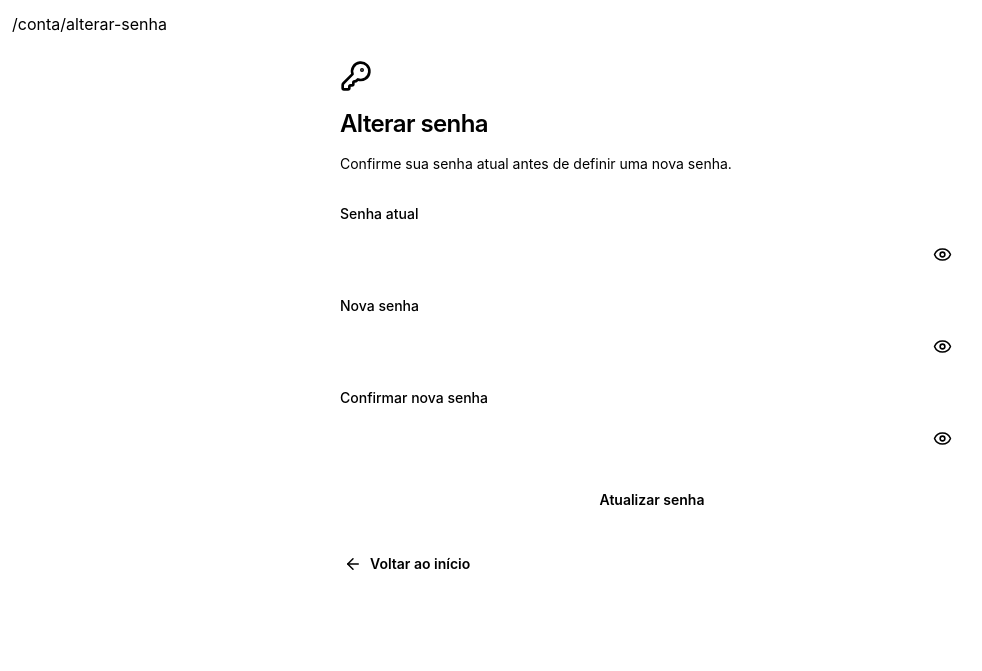
Scenario: UpdatePasswordPage › valida campos vazios e foca a senha atual
Click the button "Atualizar senha" at (652, 500), box [340,480,964,520]
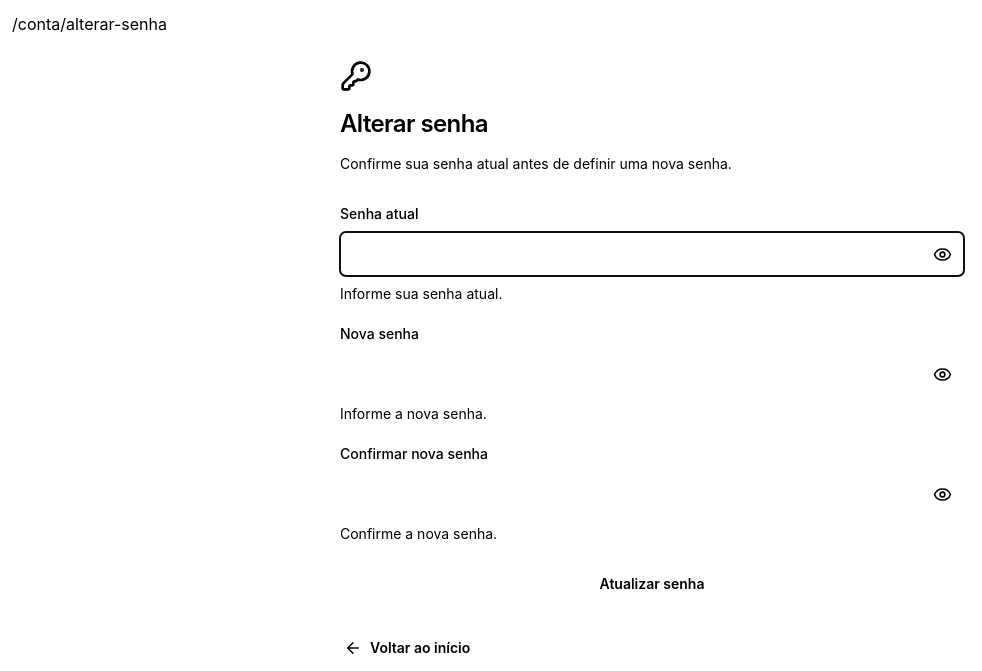
Now the text "Informe sua senha atual." is shown, box [340,285,502,302]
Now the text "Informe a nova senha." is shown, box [340,405,487,422]
